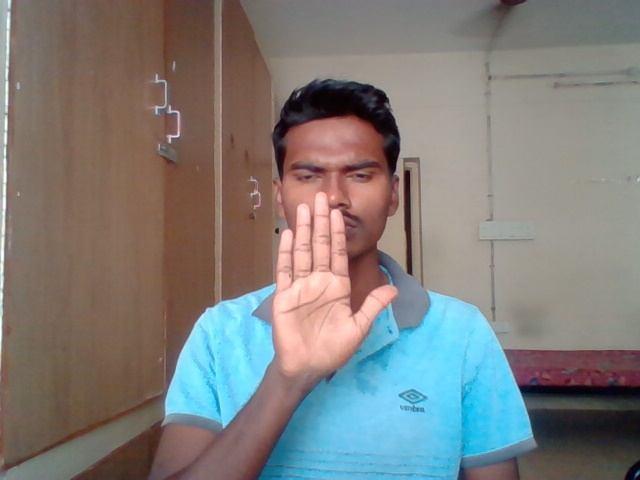Hello: (269, 188, 402, 386)
